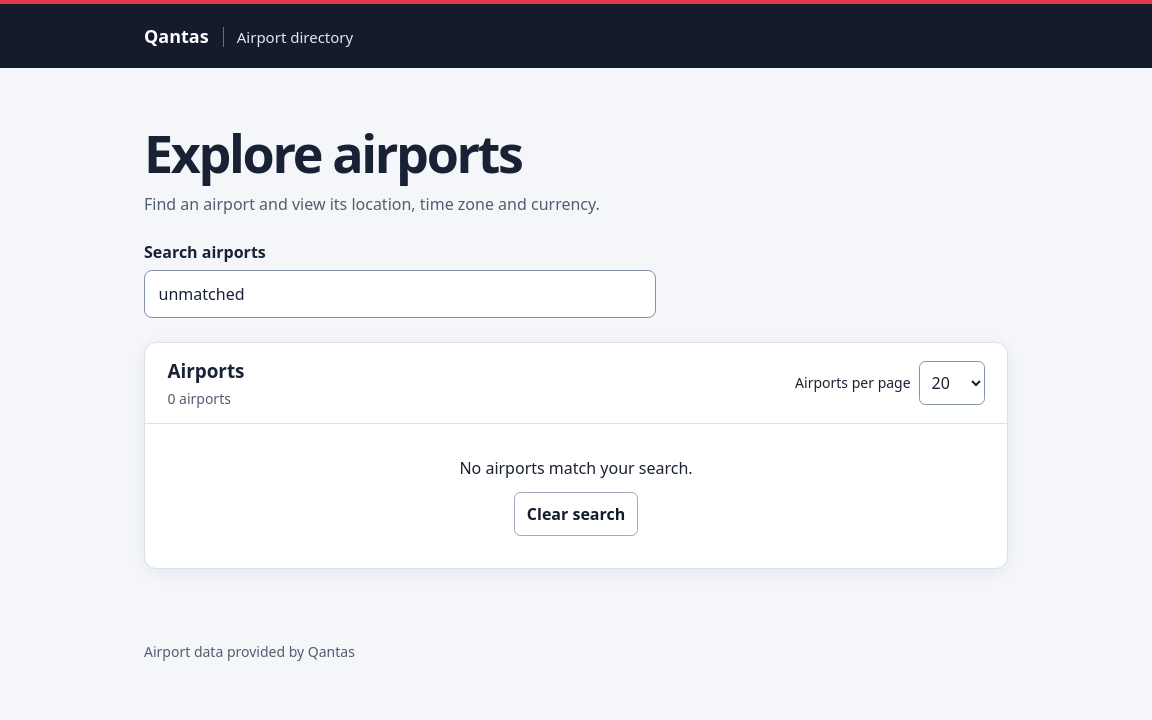
Test: clears an empty search and returns focus to the search field
The image size is (1152, 720).
Expected: the text "0 airports" is shown, left=167, top=389, right=231, bottom=408
Click the button "Clear search": (576, 514) left=514, top=492, right=638, bottom=536
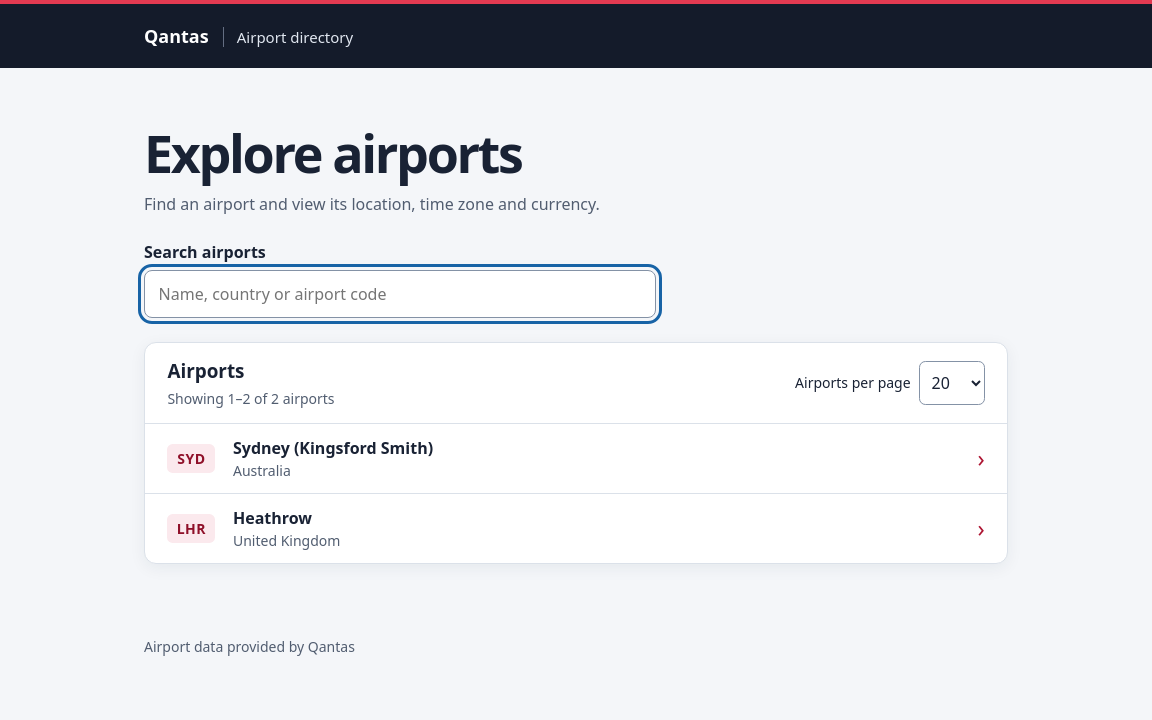
Now the search field is empty, box left=144, top=270, right=656, bottom=318
Now the text "Showing 1–2 of 2 airports" is shown, box left=167, top=388, right=335, bottom=409
